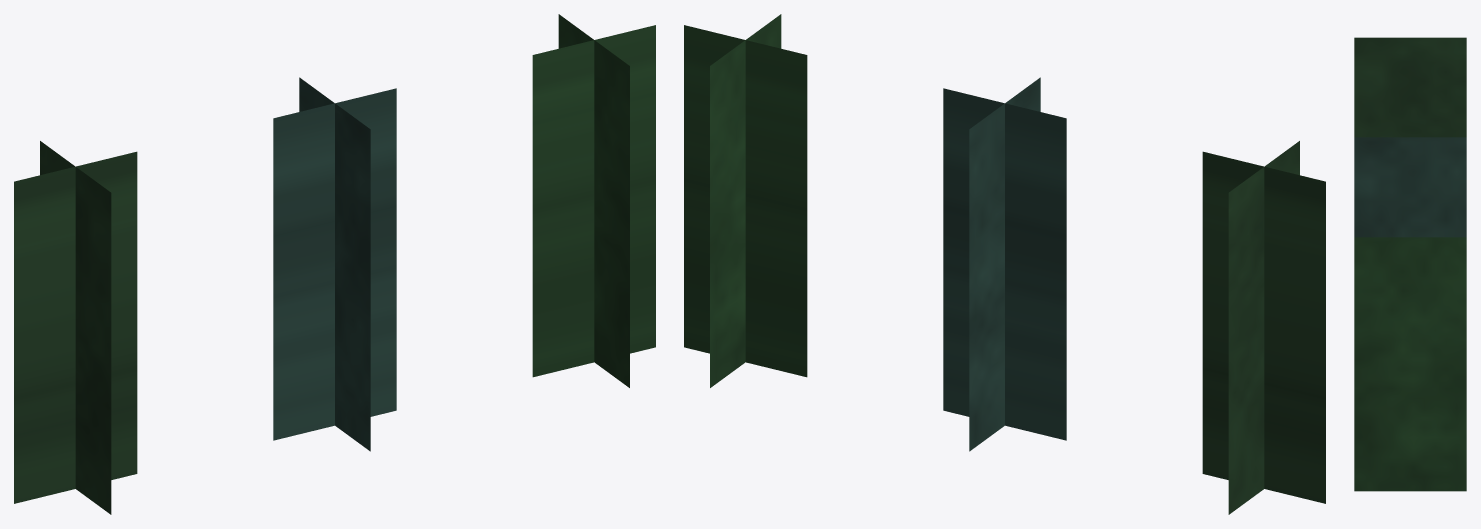
File: tree_conifer_bb.glb
3 views of the same model, side by side, from view 1: azimuth 30°, elevation 25°; view 2: azimuth 150°, elevation 25°; view 3: azimuth 270°, elevation 25° (orthographic). The views are drawn at different scales.
Visible parts, largest first — view 1: tree_conifer_bb_v1, tree_conifer_bb_v3, tree_conifer_bb_v2; view 2: tree_conifer_bb_v1, tree_conifer_bb_v3, tree_conifer_bb_v2; view 3: tree_conifer_bb_v3, tree_conifer_bb_v1, tree_conifer_bb_v2.
Boxes of the visible parts, x1,y1,x2,y2 form: tree_conifer_bb_v1: [14, 141, 137, 514]; tree_conifer_bb_v3: [532, 14, 655, 387]; tree_conifer_bb_v2: [273, 77, 396, 451]; tree_conifer_bb_v1: [1202, 141, 1325, 514]; tree_conifer_bb_v3: [684, 14, 807, 387]; tree_conifer_bb_v2: [943, 77, 1066, 451]; tree_conifer_bb_v3: [1354, 237, 1466, 491]; tree_conifer_bb_v1: [1354, 37, 1466, 137]; tree_conifer_bb_v2: [1354, 137, 1466, 237].
Bounding box in the file's own units: 19.8 × 9.5 × 3.8.
1 material, 1 textured.
